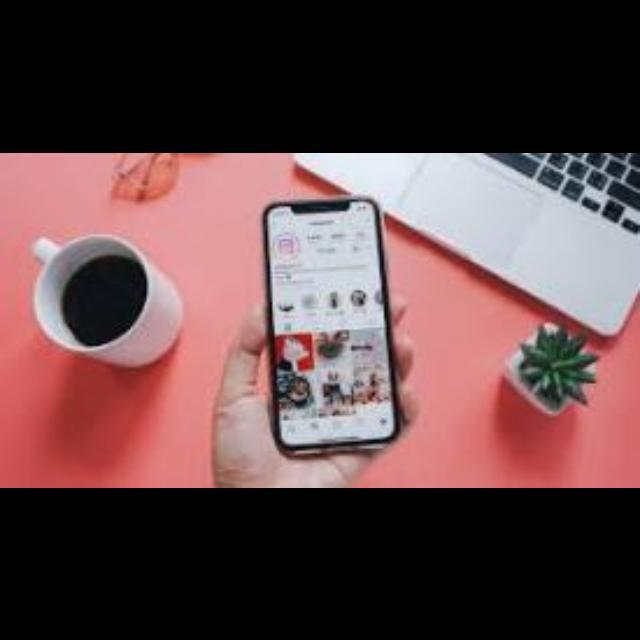PhoneUse: (258, 198, 398, 450)
